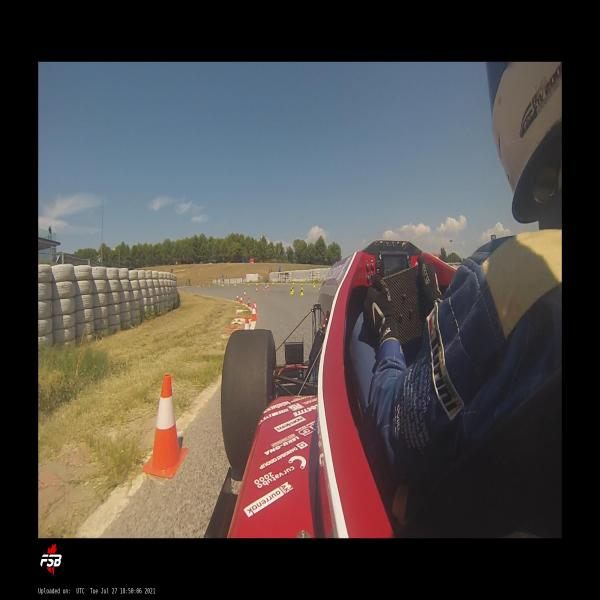orange_cone: (140, 373, 188, 479), (244, 316, 251, 331), (251, 305, 257, 321), (247, 297, 251, 307), (254, 300, 257, 313), (240, 295, 243, 304), (236, 294, 239, 301), (244, 290, 246, 296), (256, 288, 257, 292)
yellow_cone: (300, 288, 304, 296), (290, 286, 293, 294), (292, 286, 294, 292), (301, 284, 303, 289)
